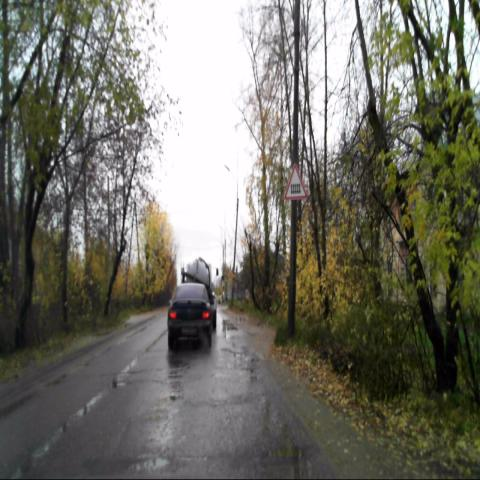1_1: (283, 162, 308, 201)
